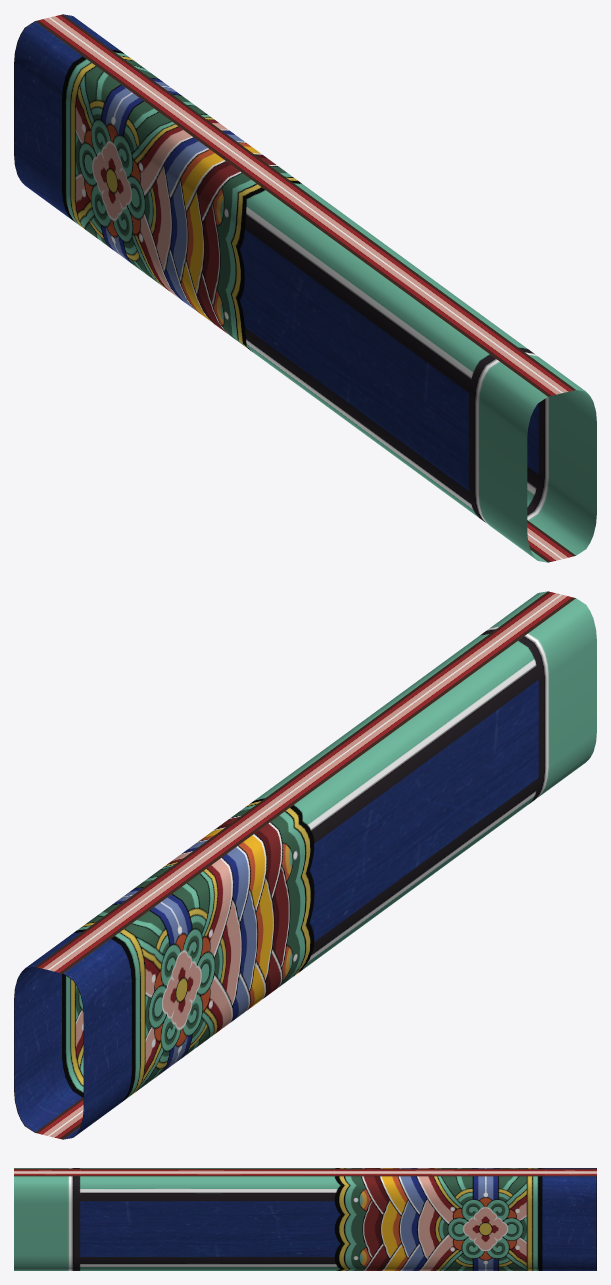
Rendered from SM_Beam08M.fbx.
The picture shows the model from 3 angles, top to bottom: view 1: azimuth 30°, elevation 25°; view 2: azimuth 150°, elevation 25°; view 3: azimuth 270°, elevation 25°; orthographic projection. The views are drawn at different scales.
Parts seen in each view (by area): view 1: SM_Beam08M; view 2: SM_Beam08M; view 3: SM_Beam08M.
Part boxes in pixels (x1,y1,x2,y2): SM_Beam08M: [14, 14, 596, 562]; SM_Beam08M: [14, 591, 596, 1139]; SM_Beam08M: [14, 1168, 596, 1270].
Bounding box in the file's own units: 16.7 × 213 × 37.99.
Materials: 1 (1 with a texture image).
